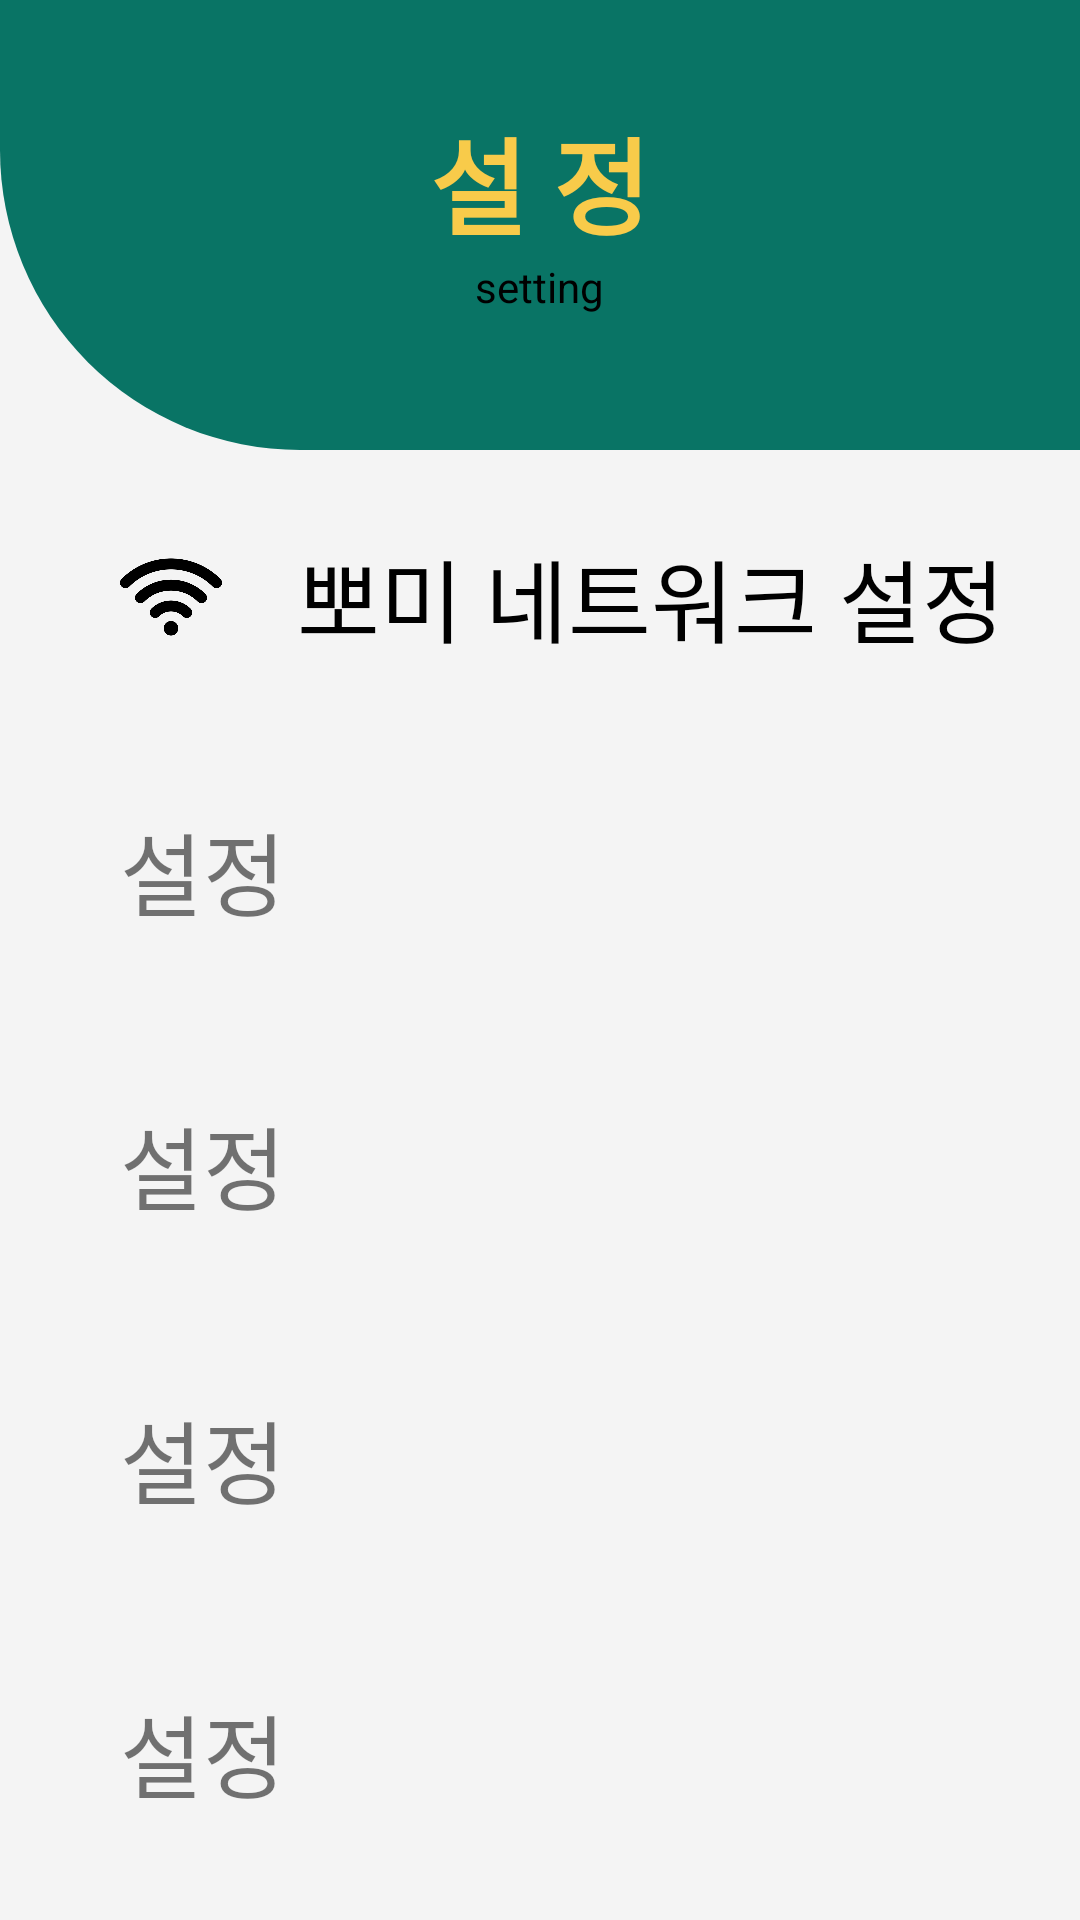

Screen size 1080 × 1920. Icon name, then its center in pixels as [x,y]:
wifi: [171,597]
